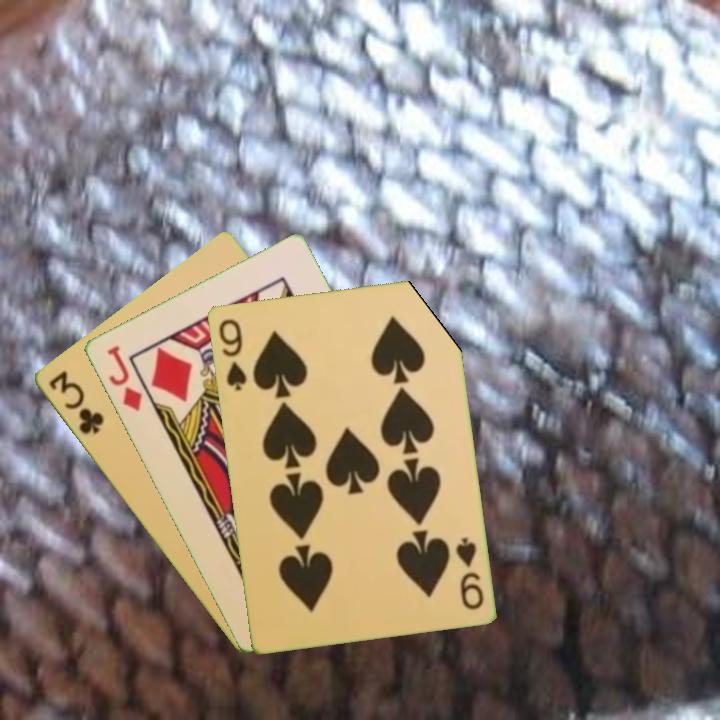3c: (44, 367, 107, 438)
9s: (451, 533, 486, 613), (214, 315, 249, 394)
Jd: (103, 341, 145, 415)
